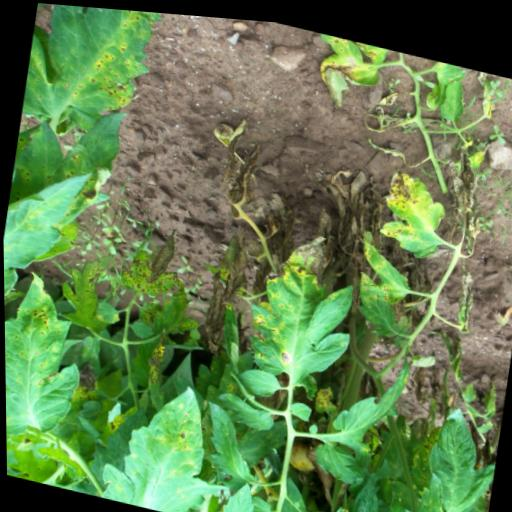Healthy: (287, 394, 312, 419)
Septoria: (237, 214, 366, 390), (96, 358, 242, 512), (36, 2, 176, 153), (3, 262, 100, 442), (325, 323, 414, 456), (408, 392, 502, 512), (375, 159, 450, 257), (308, 27, 391, 114), (194, 396, 263, 486), (53, 238, 114, 336), (114, 217, 185, 301), (149, 269, 207, 344), (353, 232, 414, 301), (349, 264, 401, 333), (138, 324, 174, 411), (212, 385, 276, 432), (232, 359, 282, 397), (213, 471, 259, 512), (344, 465, 383, 512), (436, 66, 468, 117)
